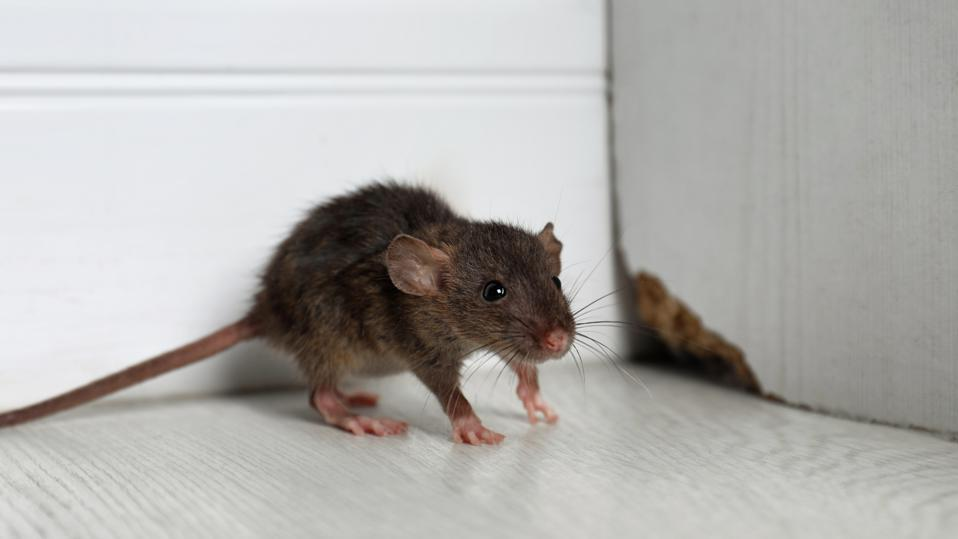Rat: (234, 168, 595, 460)
